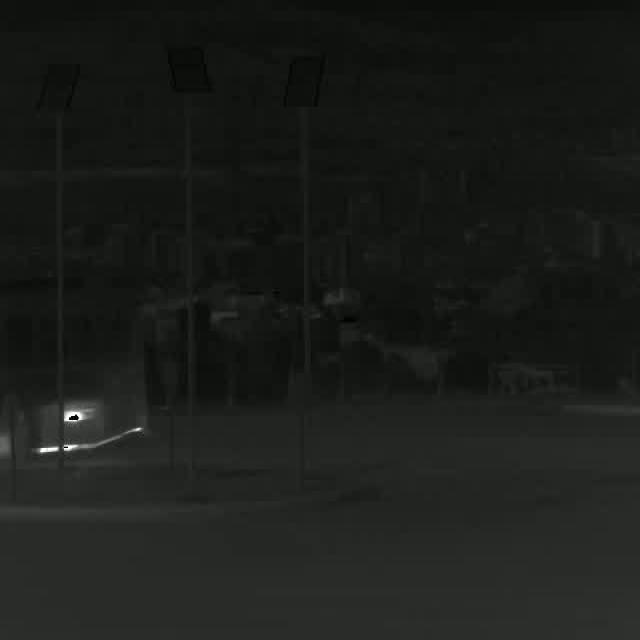Bus: (0, 280, 147, 467)
